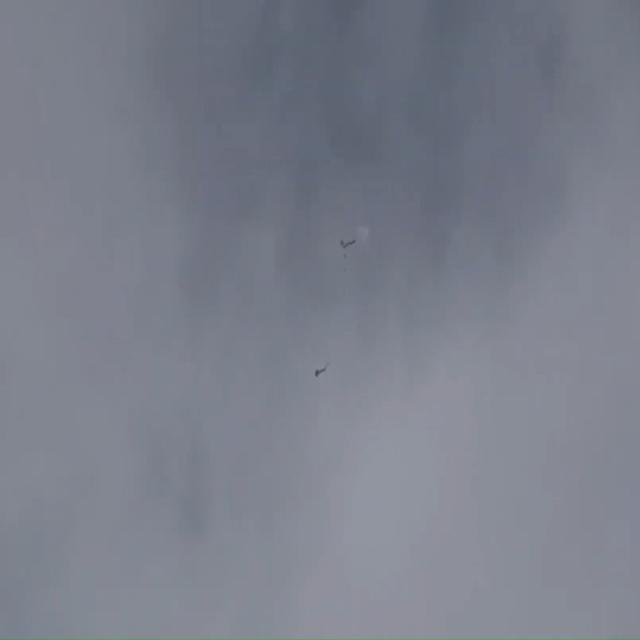Rocket: (315, 365, 326, 377)
